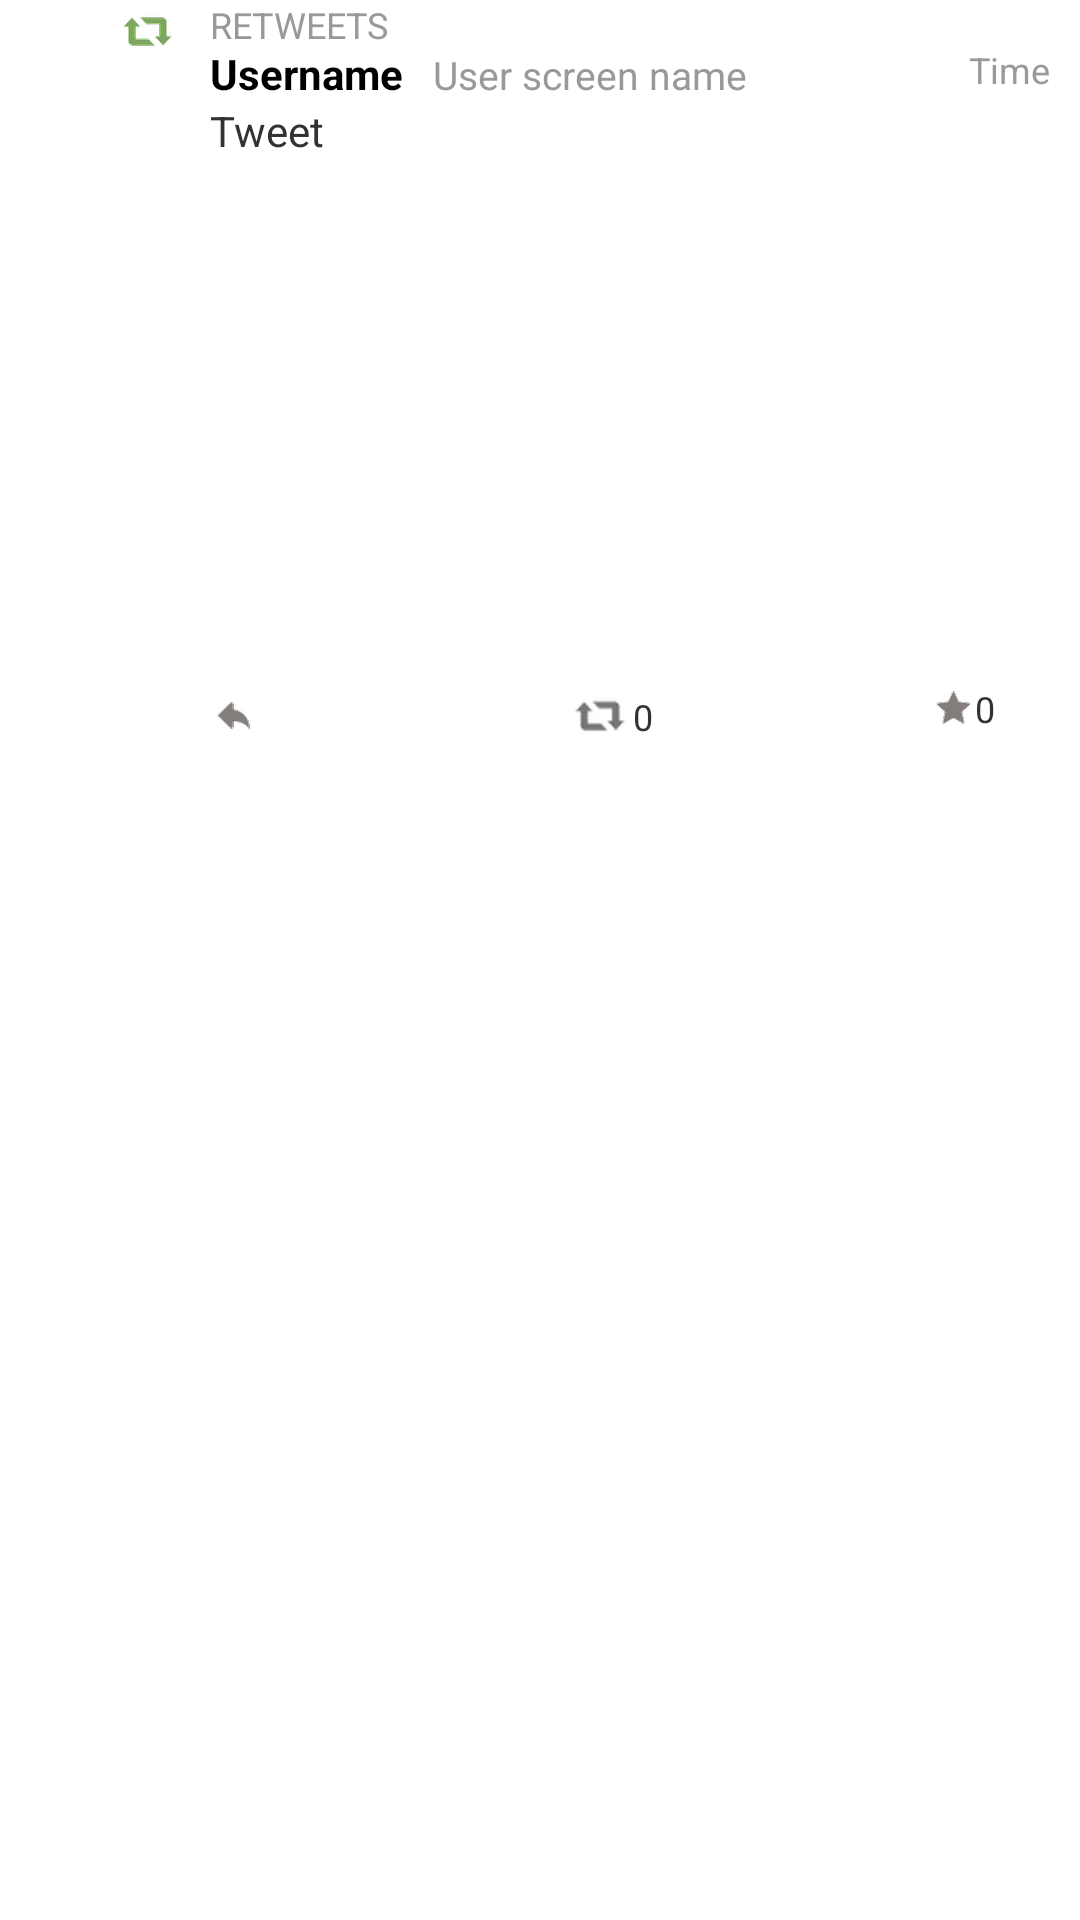

Named icons in this screenshot (1080x1920) and their bounding boxes, (x1, y1, x2, y2):
FAVORITES: (936, 691, 971, 724)
Reply: (217, 702, 250, 729)
